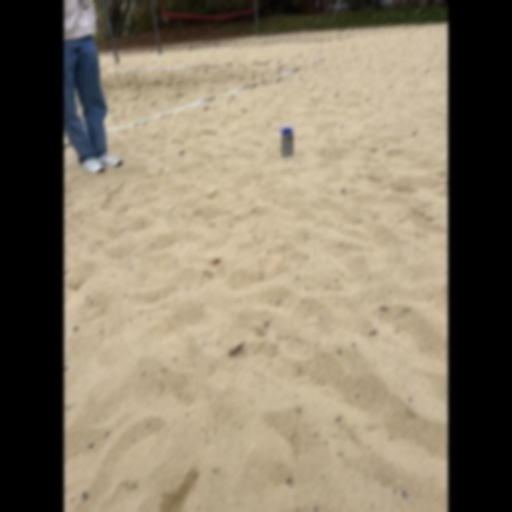bottle: (281, 128, 295, 158)
